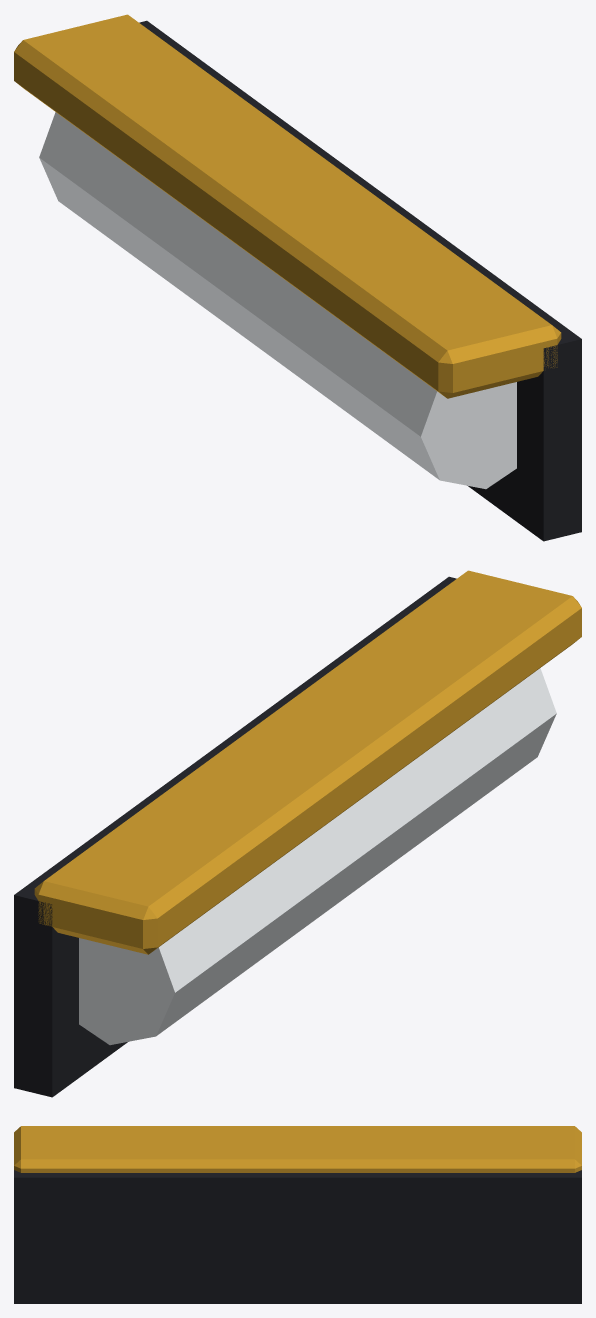
File: conveyor_end.glb
3 views of the same model, one above another, from view 1: azimuth 30°, elevation 25°; view 2: azimuth 150°, elevation 25°; view 3: azimuth 270°, elevation 25° (orthographic). The views are drawn at different scales.
Visible parts, largest first — view 1: cap; view 2: cap; view 3: cap.
Boxes of the visible parts, <box> form: cap: <box>14,14,581,541</box>; cap: <box>14,570,581,1097</box>; cap: <box>14,1126,581,1303</box>.
Size of the model in its own units: 0.18 by 0.26 by 0.98.
